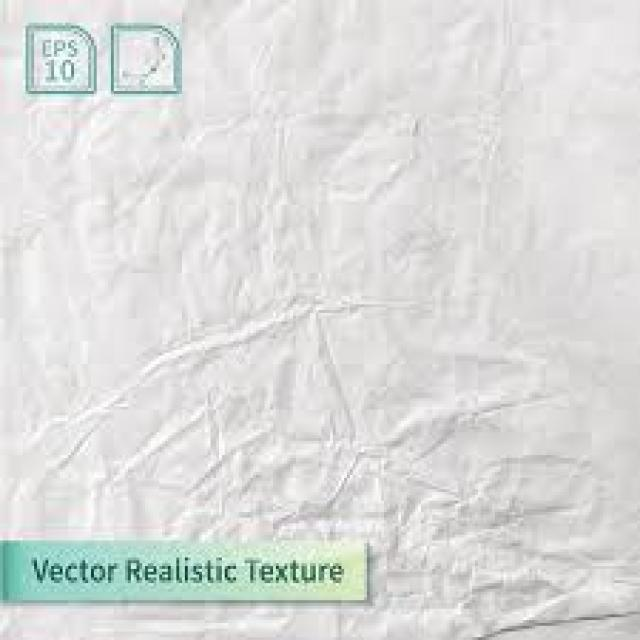paper: (0, 0, 637, 637), (0, 103, 637, 538)
